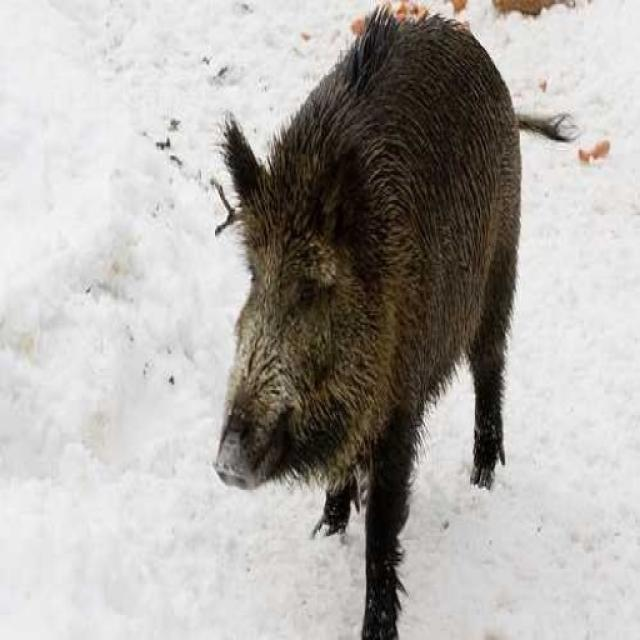pig: (178, 30, 594, 640)
